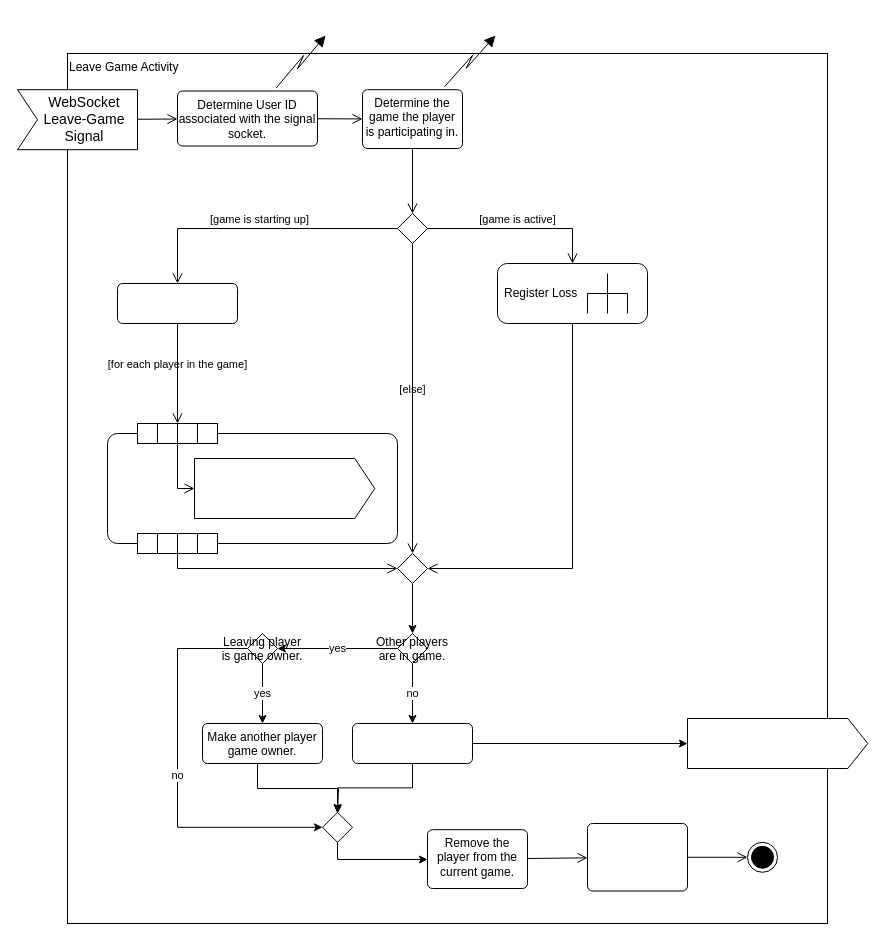
The diagram is 886 pixels wide and 941 high, and some of its shapes have lost their labels. Each missing label, with the centre of its shape:
... inform player that game start was interrupted because a player left.: the point at 284,488
Inform the new owner of what happened.: the point at 777,743
Interrupt the game startup countdown.: the point at 177,303
Remove game from game registry.: the point at 412,743
Unmark user as currently participating in a game.: the point at 637,856
